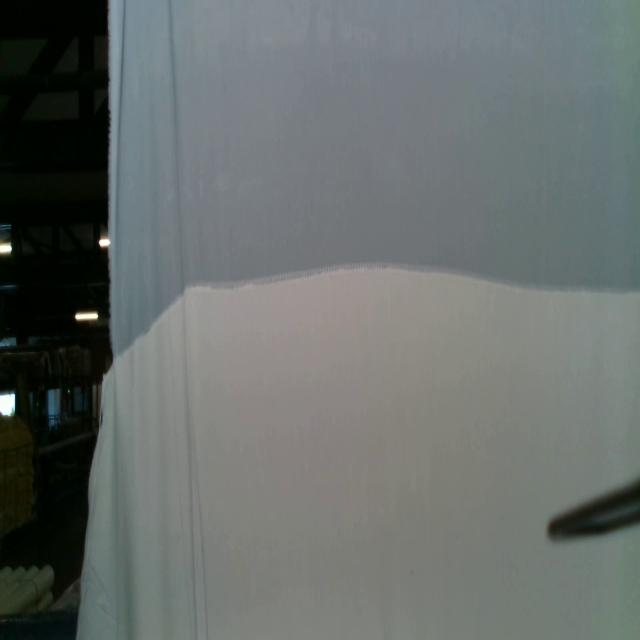crease: (183, 296, 210, 638)
